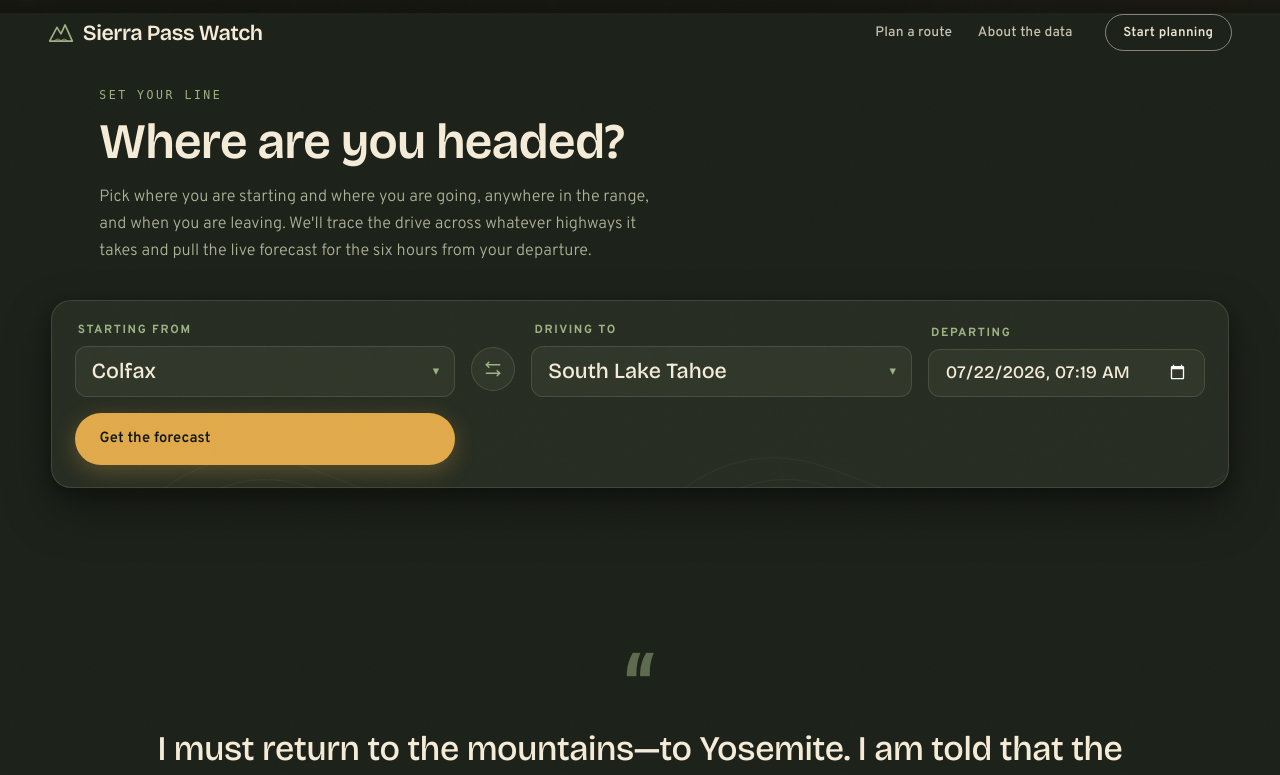
App - plan a journey and show the live forecast › shows the live journey forecast after planning
This screenshot has width=1280, height=775.
(page scrolled)
Expected: the dropdown labelled "Starting from" shows "Colfax", [75, 346, 455, 397]
Click the button "Get the forecast" at (155, 439), box [75, 413, 455, 465]
(page scrolled)
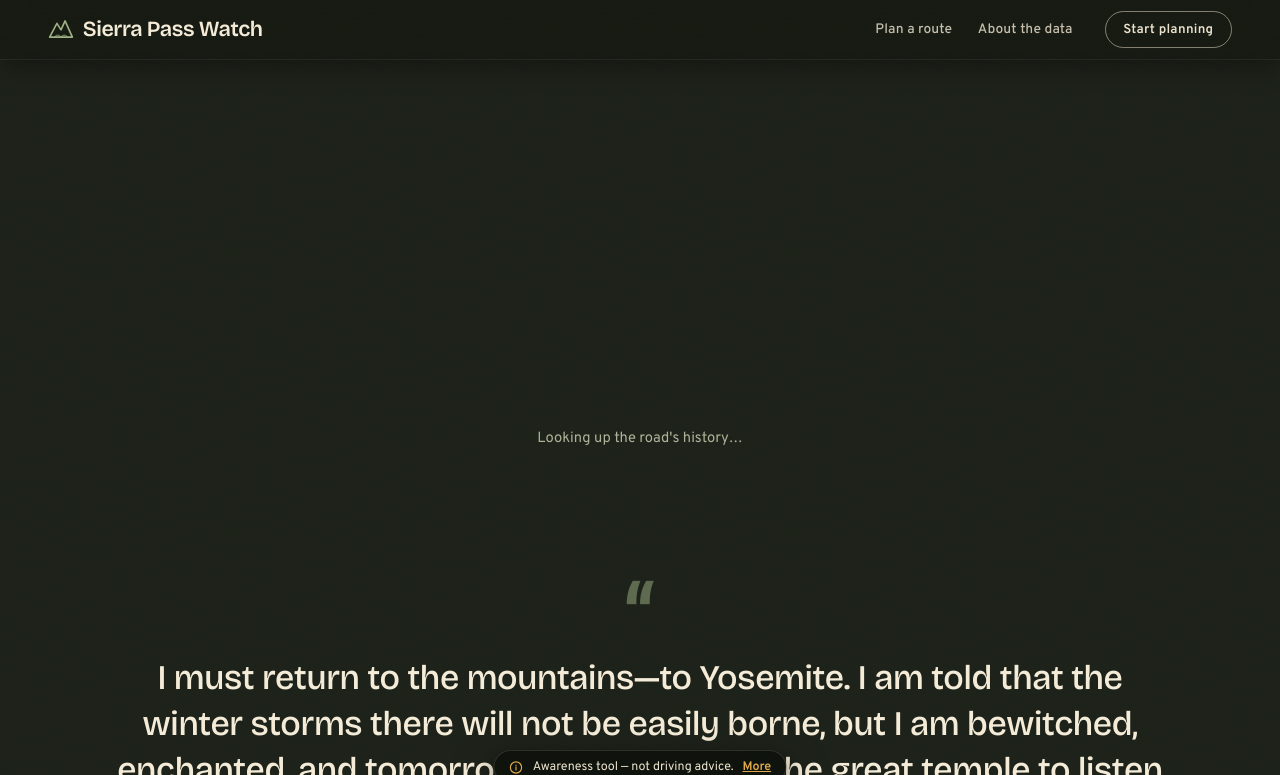
Expected: the text "Looking up the road's history…" is shown, [537, 429, 743, 448]
